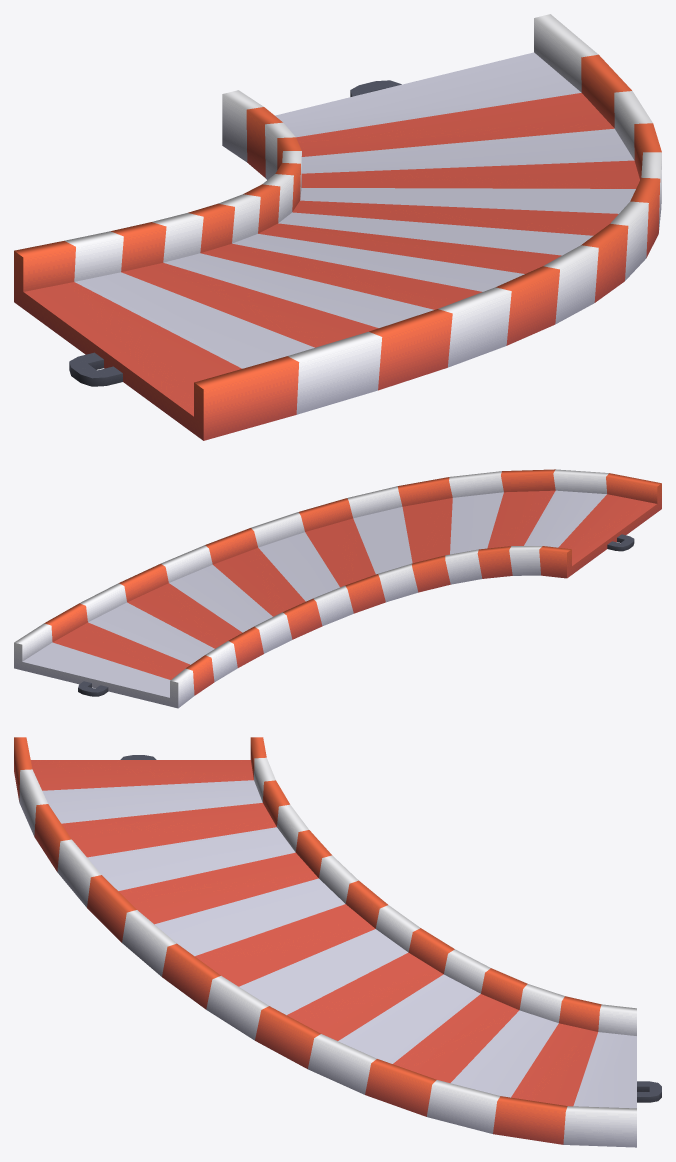
Rendered from track-striped-wide-corner-large-ramp.glb.
The picture shows the model from 3 angles, top to bottom: view 1: azimuth 30°, elevation 25°; view 2: azimuth 150°, elevation 25°; view 3: azimuth 270°, elevation 25°; orthographic projection. The views are drawn at different scales.
Visible parts, largest first — view 1: track-striped-wide-corner-large-ramp; view 2: track-striped-wide-corner-large-ramp; view 3: track-striped-wide-corner-large-ramp.
Part boxes in pixels (x1,y1,x2,y2): track-striped-wide-corner-large-ramp: [14, 14, 661, 440]; track-striped-wide-corner-large-ramp: [14, 469, 661, 708]; track-striped-wide-corner-large-ramp: [14, 737, 661, 1147].
Size of the model in its own units: 15.6 by 3.9 by 15.6.
1 material, 1 textured.
